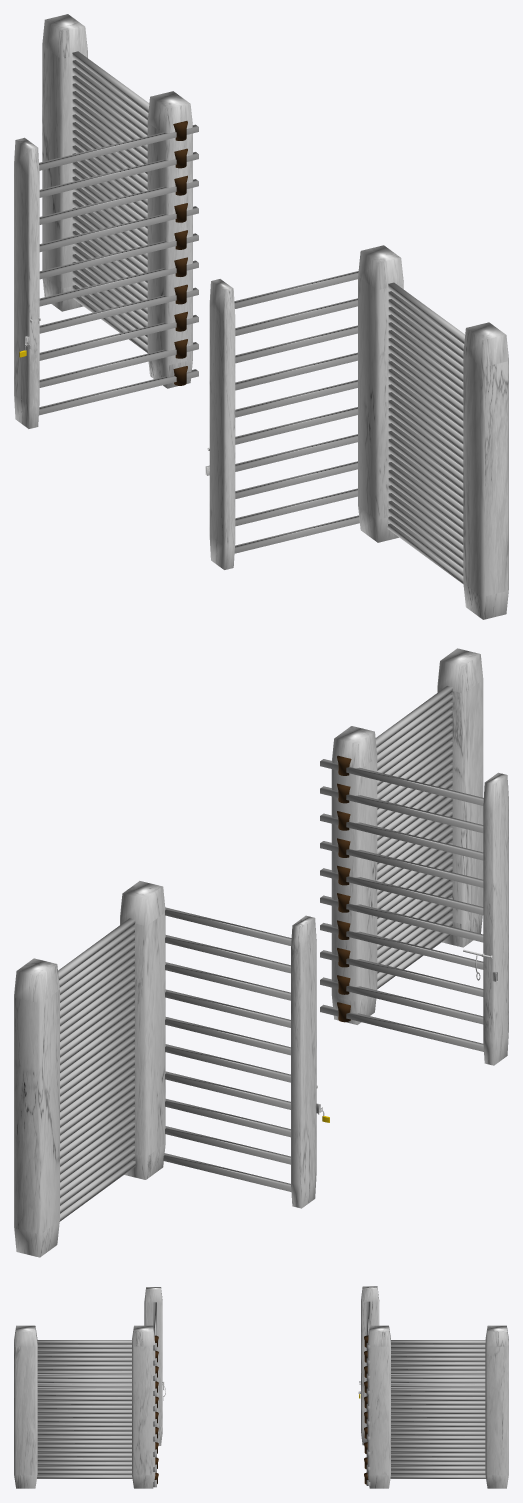
Rendered from Gate.glb.
The picture shows the model from 3 angles, top to bottom: view 1: azimuth 30°, elevation 25°; view 2: azimuth 150°, elevation 25°; view 3: azimuth 270°, elevation 25°; orthographic projection. The views are drawn at different scales.
Visible parts, largest first — view 1: Cube.001, Cube.002, Plane, Cube.003, Plane.001, Cylinder.001; view 2: Cube.001, Cube.003, Plane.001, Cube.002, Plane, Cylinder; view 3: Cube.001, Plane, Plane.001, Cube.003, Cube.002, Cylinder.001, Cylinder.
Part boxes in pixels (x1=…): Cube.001: x1=42, y1=14, x2=508, y2=619; Cube.002: x1=14, y1=124, x2=198, y2=428; Plane: x1=387, y1=282, x2=464, y2=583; Cube.003: x1=205, y1=271, x2=359, y2=569; Plane.001: x1=72, y1=51, x2=149, y2=352; Cylinder.001: x1=173, y1=121, x2=187, y2=385; Cube.001: x1=14, y1=648, x2=483, y2=1257; Cube.003: x1=320, y1=759, x2=508, y2=1065; Plane.001: x1=58, y1=918, x2=135, y2=1221; Cube.002: x1=163, y1=907, x2=322, y2=1208; Plane: x1=375, y1=686, x2=452, y2=988; Cylinder: x1=337, y1=755, x2=351, y2=1022; Cube.001: x1=14, y1=1325, x2=508, y2=1488; Plane: x1=37, y1=1340, x2=132, y2=1478; Plane.001: x1=390, y1=1340, x2=485, y2=1478; Cube.003: x1=144, y1=1287, x2=163, y2=1487; Cube.002: x1=358, y1=1286, x2=379, y2=1485; Cylinder.001: x1=364, y1=1335, x2=368, y2=1484; Cylinder: x1=154, y1=1335, x2=158, y2=1483.
Bounding box in the file's own units: 5.03 × 7.06 × 20.22.
5 materials, 1 textured.
